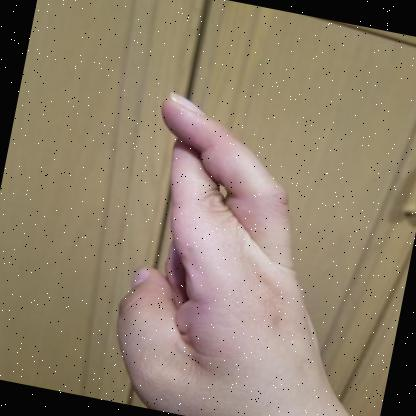R: (116, 92, 349, 416)
